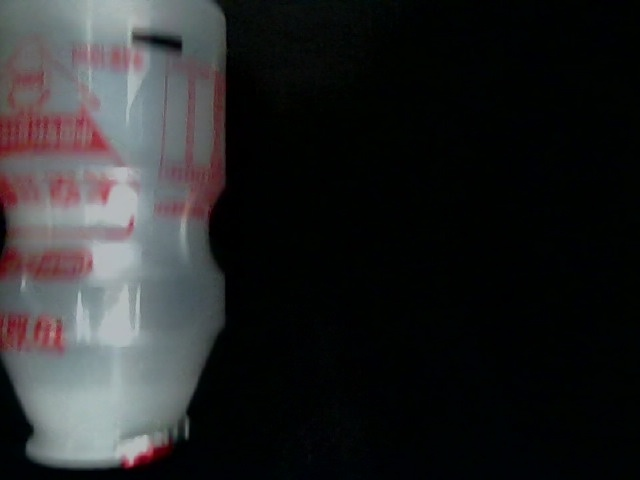CYLJ: (554, 316, 640, 416)
